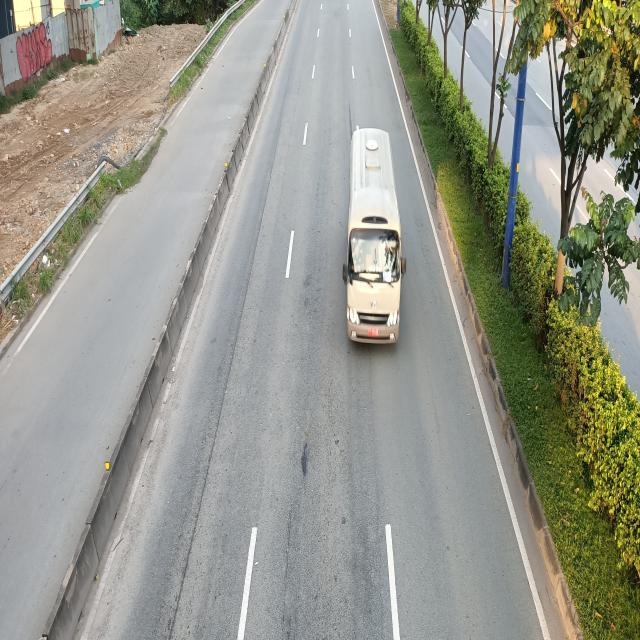coach: (346, 123, 410, 343)
